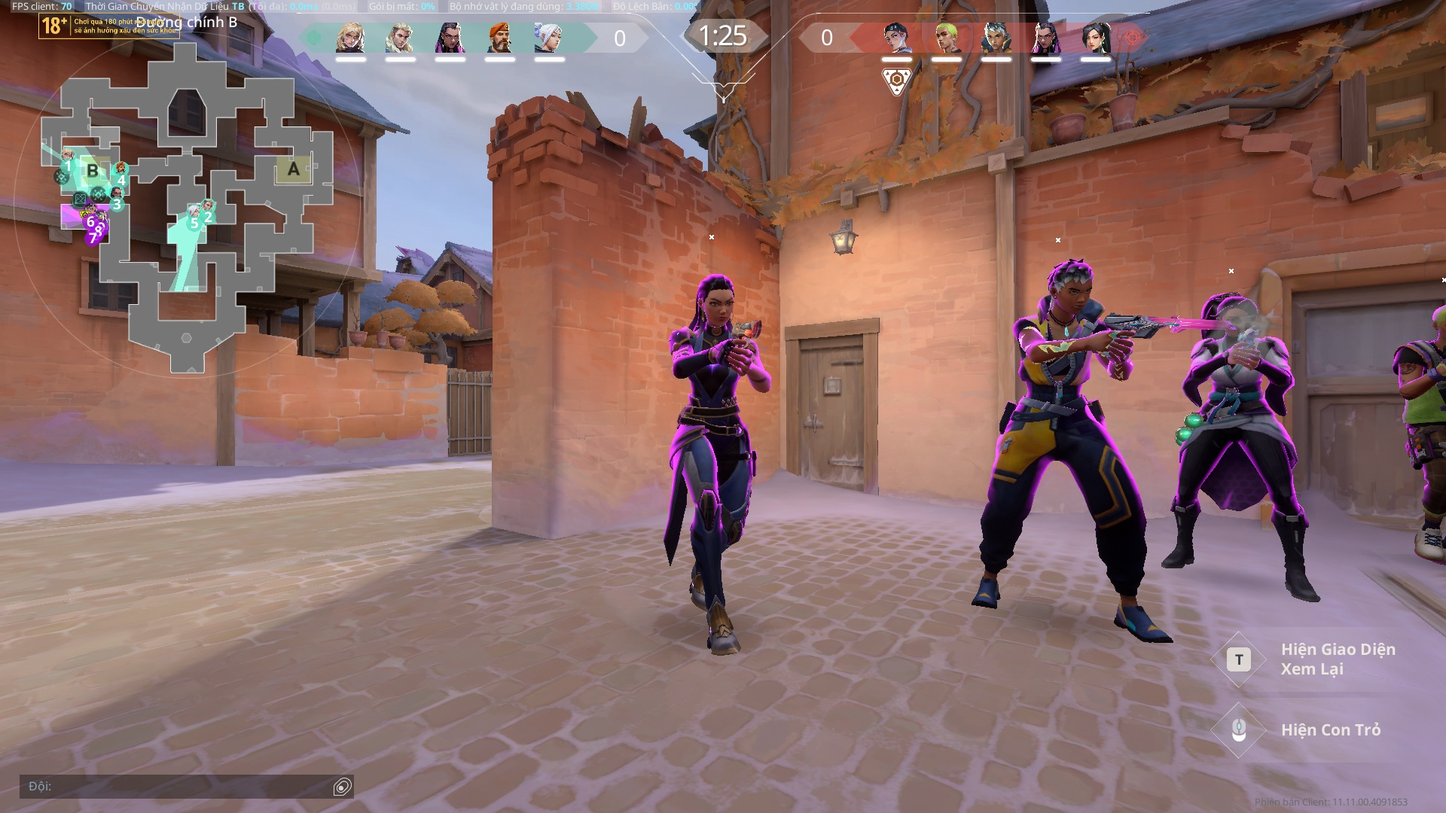body: (660, 317, 765, 429), (1018, 309, 1130, 407), (1191, 331, 1292, 421), (1390, 333, 1438, 419)
head: (1206, 288, 1259, 340), (1055, 261, 1095, 318), (700, 269, 739, 319), (1426, 301, 1438, 336)
